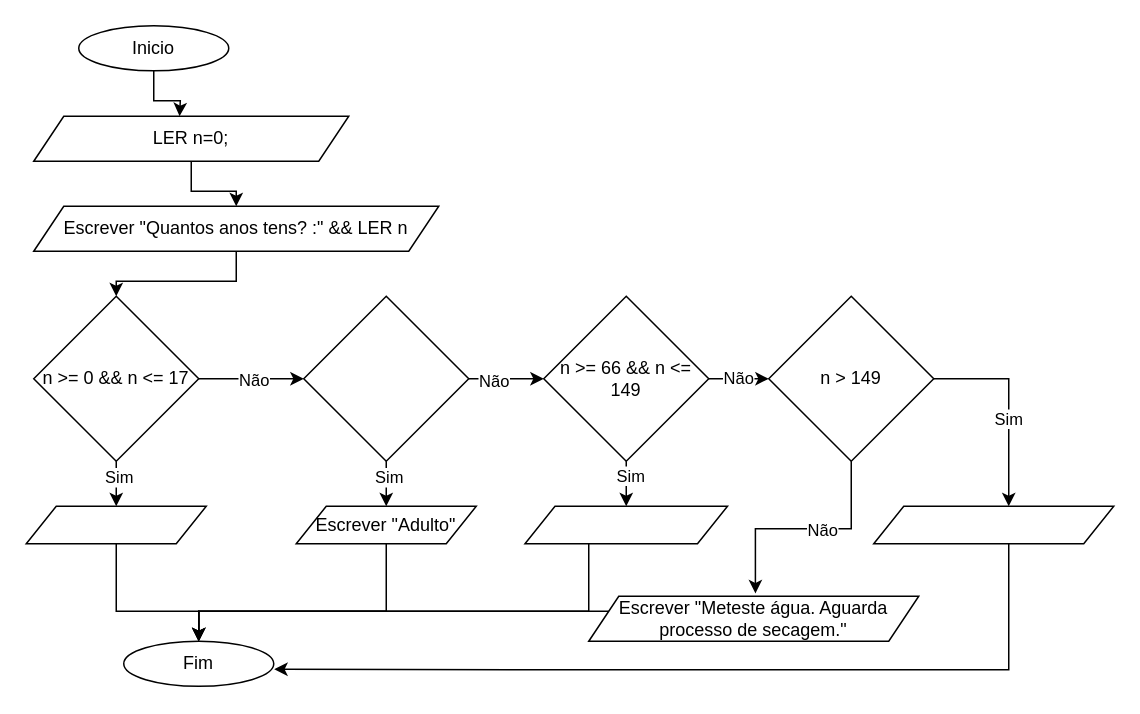
The diagram is 1140 pixels wide and 714 high, and some of its shapes have lost their labels. Here are the shapes that lost their labels. From the top down, the centre of each, then its label:
pixel 385 378: n >= 18 && n <= 65
pixel 115 524: Escrever "Puto"
pixel 626 524: Escrever "Velhinho"
pixel 993 524: Escrever "Dinossauro."
